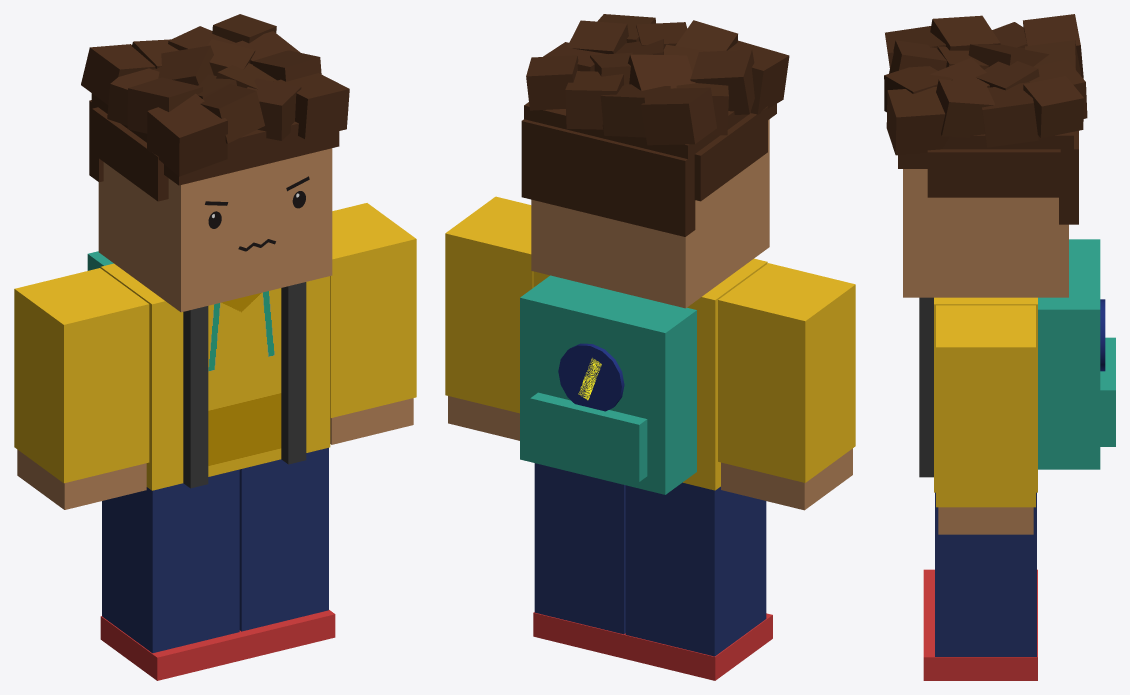
The model's file is robot_kid.glb.
3 renders of one model, left to right at view 1: azimuth 30°, elevation 25°; view 2: azimuth 150°, elevation 25°; view 3: azimuth 270°, elevation 25°, orthographic. The views are drawn at different scales.
Parts seen in each view (by area): view 1: head, torso, arm_R, leg_R, arm_L, leg_L, face; view 2: head, torso, arm_R, leg_R, arm_L, leg_L; view 3: head, arm_L, torso, leg_L, leg_R.
Boxes of the visible parts, x1,y1,x2,y2 form: head: (81,14,349,312); torso: (87,251,330,490); arm_R: (14,268,149,509); leg_R: (100,469,246,680); arm_L: (330,203,416,444); leg_L: (239,447,335,658); face: (205,176,309,251); head: (521,14,789,308); torso: (520,258,767,494); arm_R: (718,263,855,510); leg_R: (624,482,772,680); arm_L: (445,196,533,440); leg_L: (533,463,625,658); head: (884,14,1087,297); arm_L: (936,305,1035,534); torso: (919,239,1115,492); leg_L: (923,492,1037,680); leg_R: (923,569,1037,613).
Bounding box in the file's own units: 0.99 × 1.56 × 0.5575.
12 materials, 2 textured.
